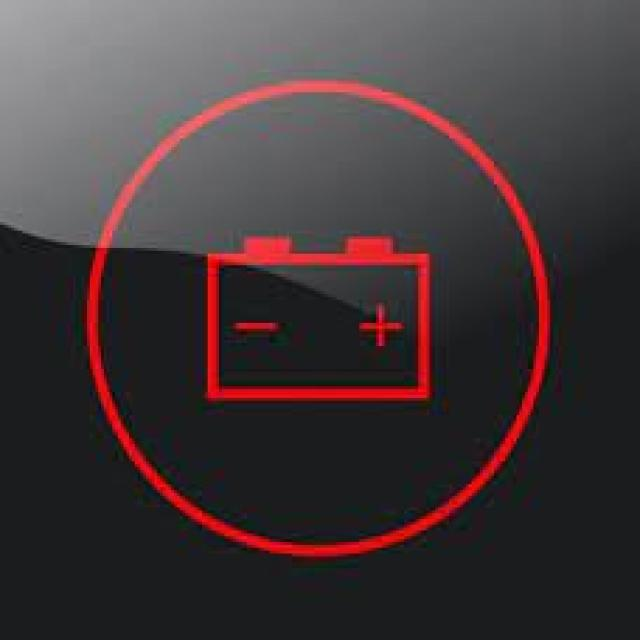kontrolka: (193, 220, 453, 434)
